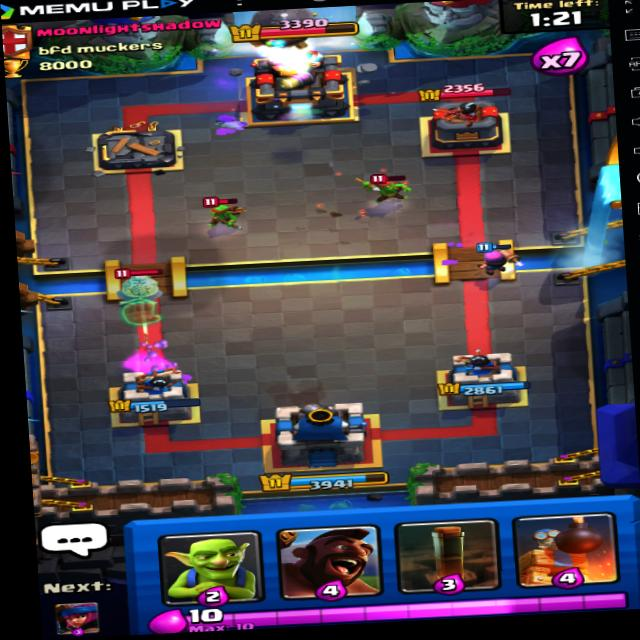Monk: (101, 263, 173, 306)
Monkability: (101, 261, 182, 308)
Rocket: (241, 6, 323, 53)
Speargoblin: (201, 196, 248, 231), (368, 167, 409, 205)
